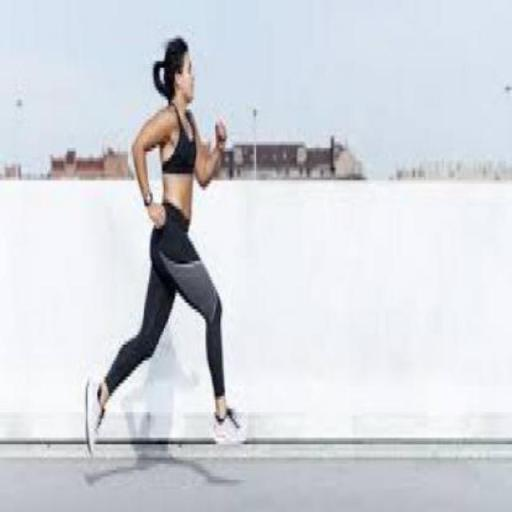Running: (76, 26, 318, 456)
